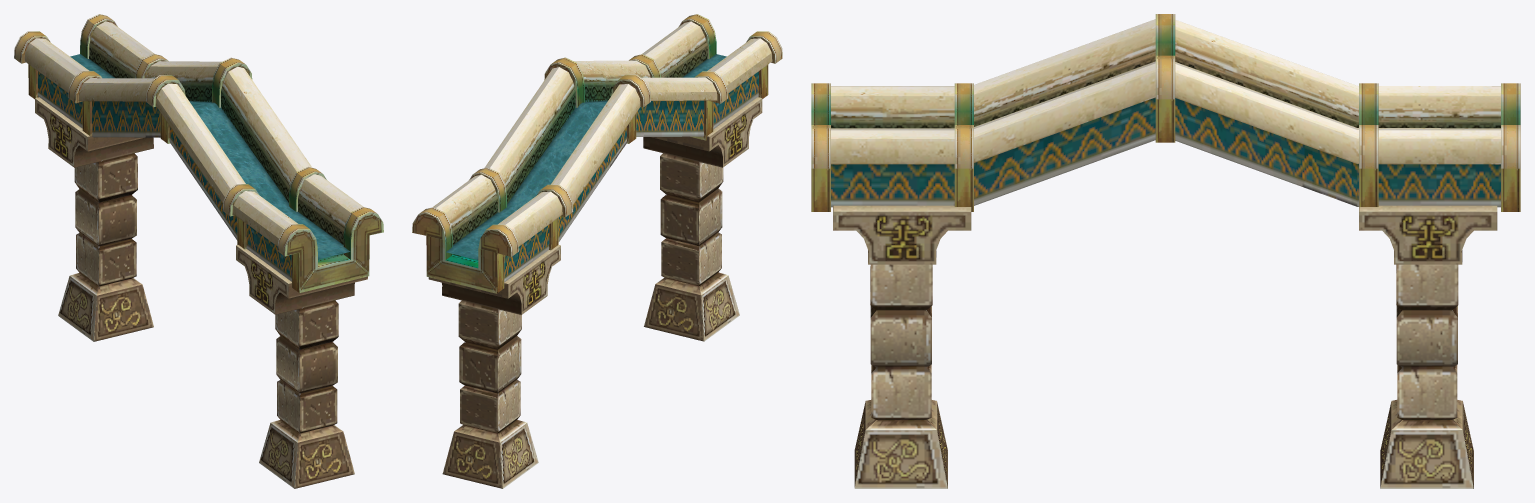
3 renders of one model, left to right at view 1: azimuth 30°, elevation 25°; view 2: azimuth 150°, elevation 25°; view 3: azimuth 270°, elevation 25°, orthographic. The views are drawn at different scales.
Parts seen in each view (by area): view 1: geom_node_0; view 2: geom_node_0; view 3: geom_node_0.
Boxes of the visible parts, box(x1,y1,x2,y2) form: geom_node_0: box(14, 14, 383, 488); geom_node_0: box(412, 14, 782, 488); geom_node_0: box(811, 14, 1520, 488).
Bounding box in the file's own units: 1.5 × 4.72 × 7.09.
Materials: 3 (3 with a texture image).
